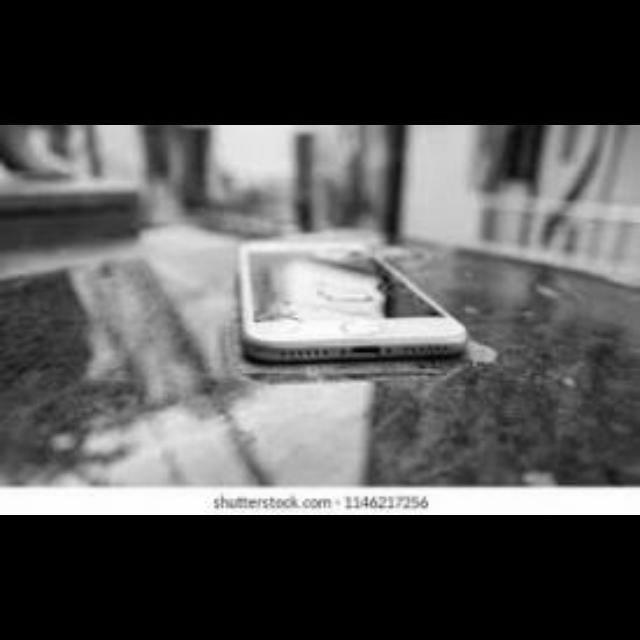fake: (192, 214, 486, 392)
